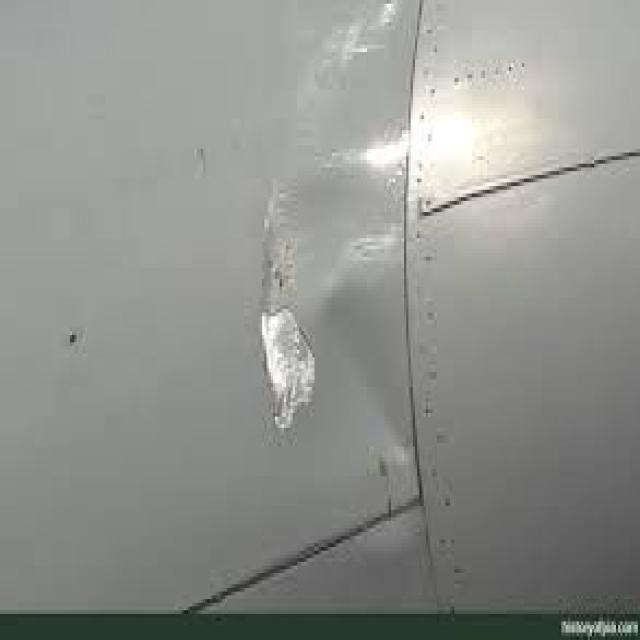Dent: (257, 183, 325, 440)
